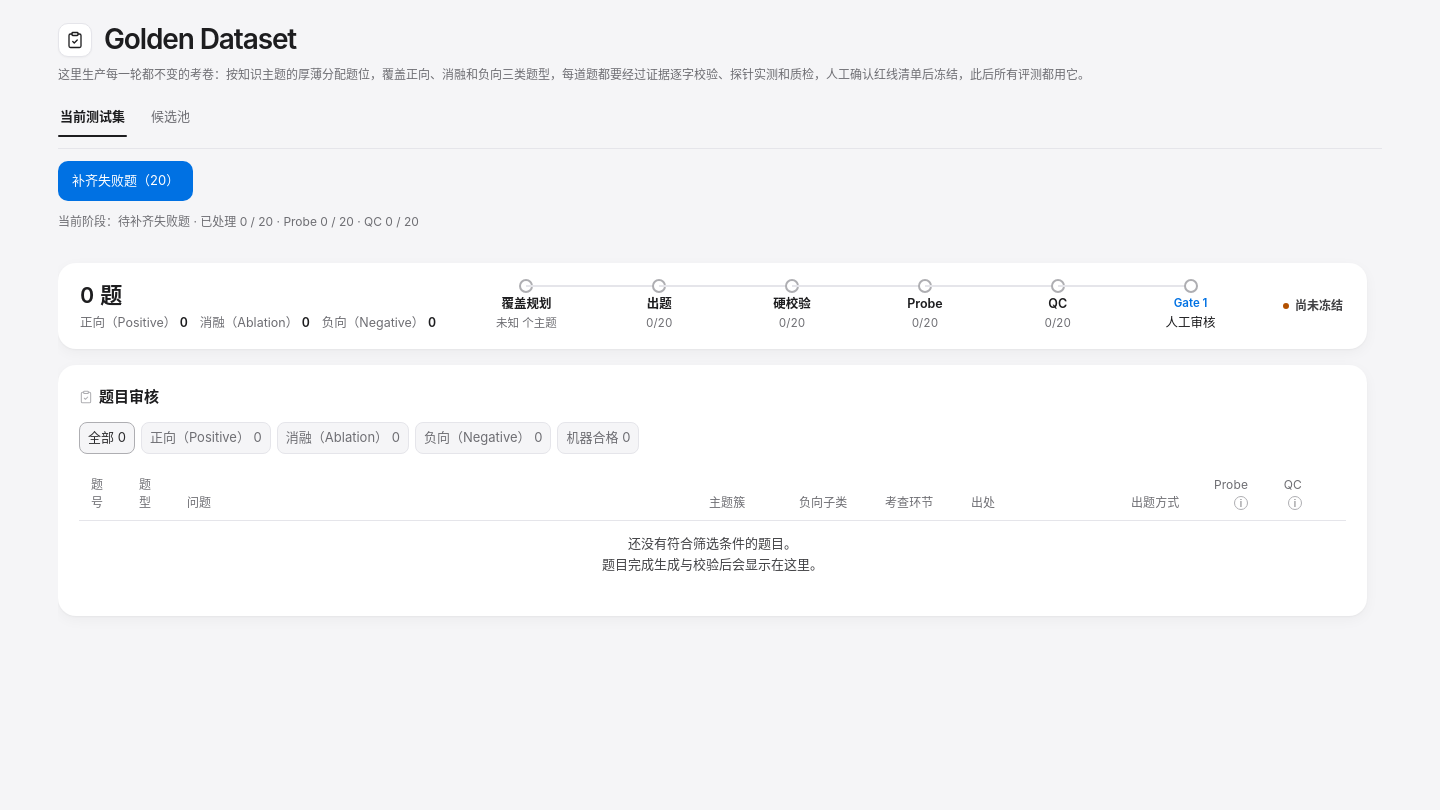
Test case: confirms retrying failed Golden generation before making requests
Click the button "补齐失败题（20）" at [126, 181], box 58,161 -> 193,201
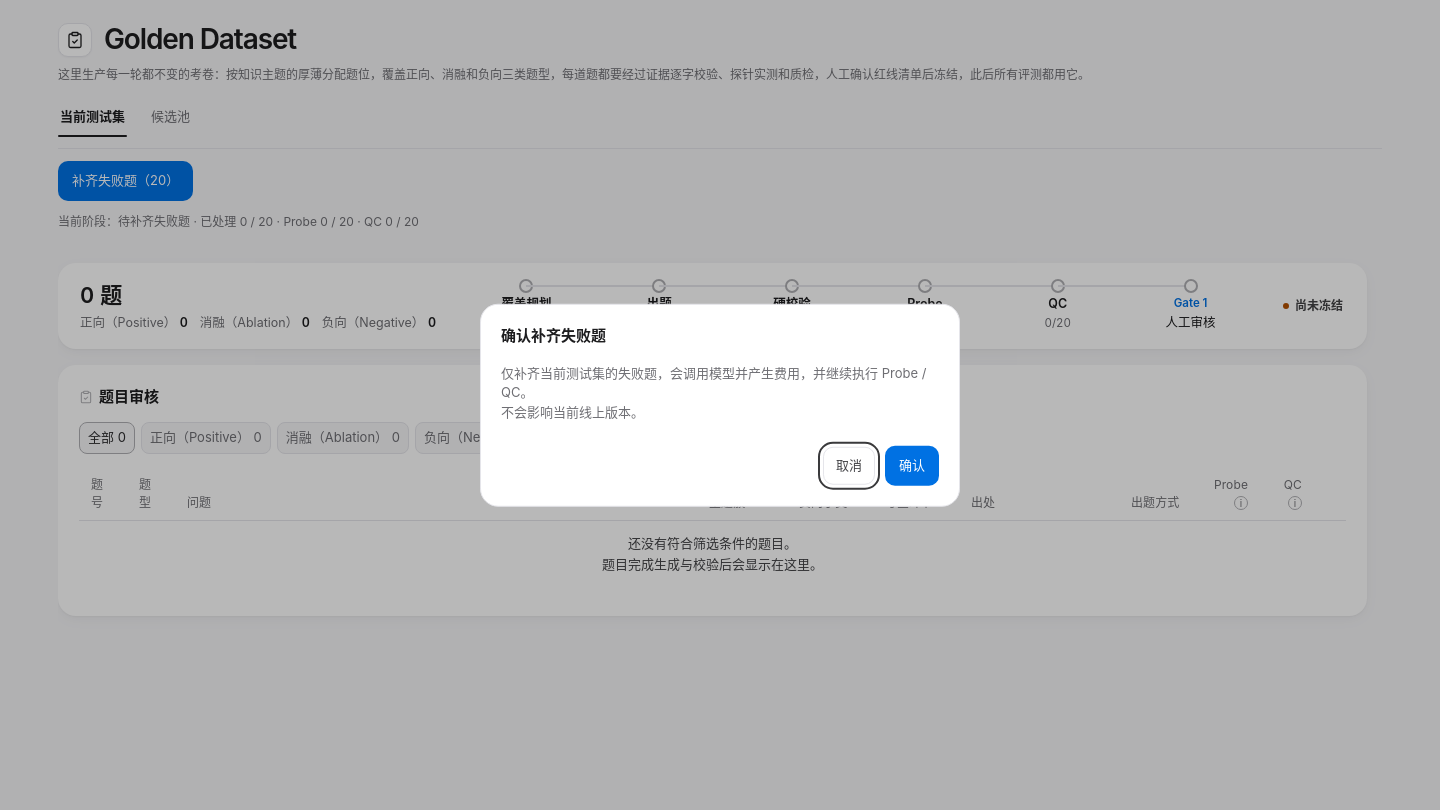
Expected: the dialog with class "confirm-dialog" is shown, 480,304 -> 960,506
Expected: the button "取消" is shown
Click the button "取消" at [849, 466], box 823,447 -> 875,484
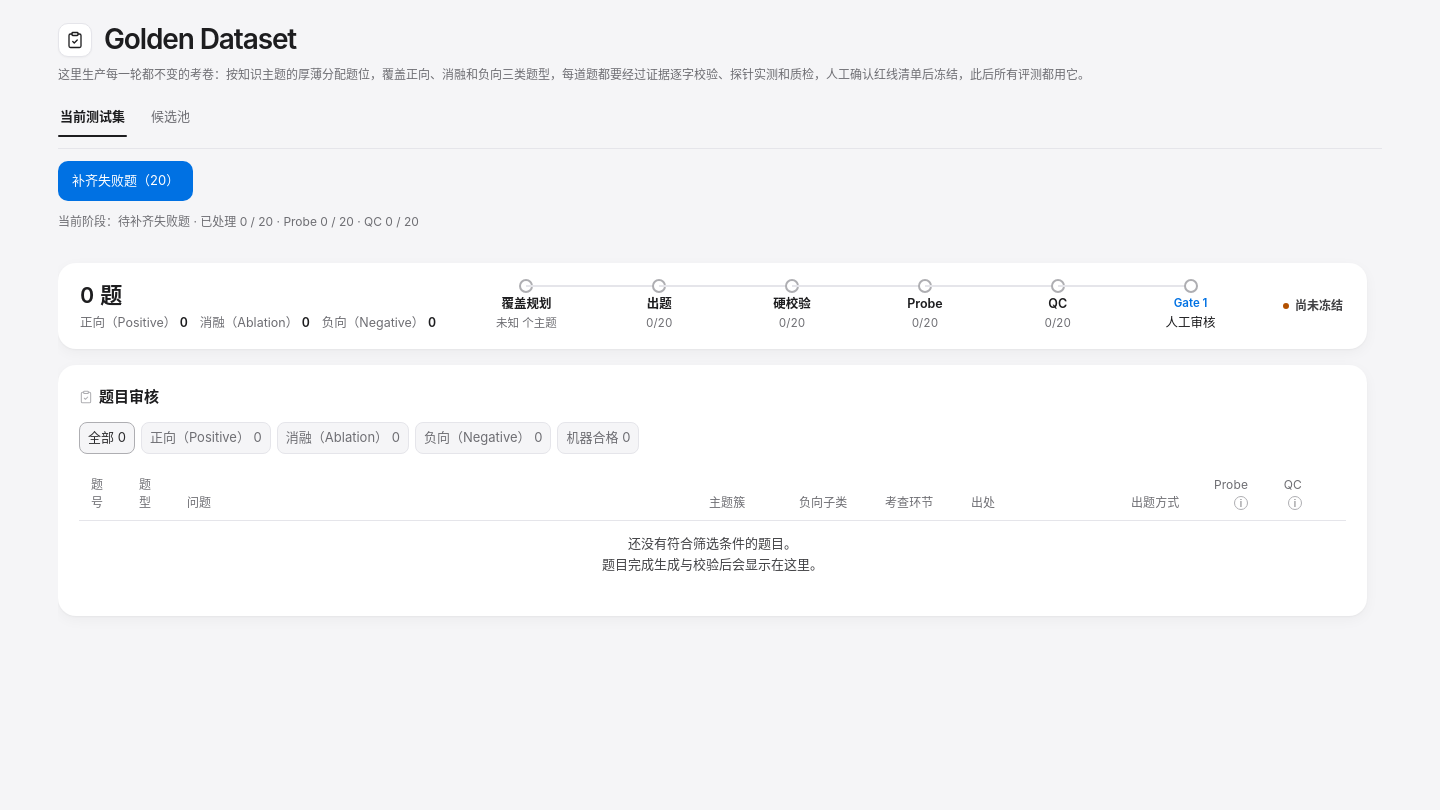
Expected: the dialog with class "confirm-dialog" is gone
